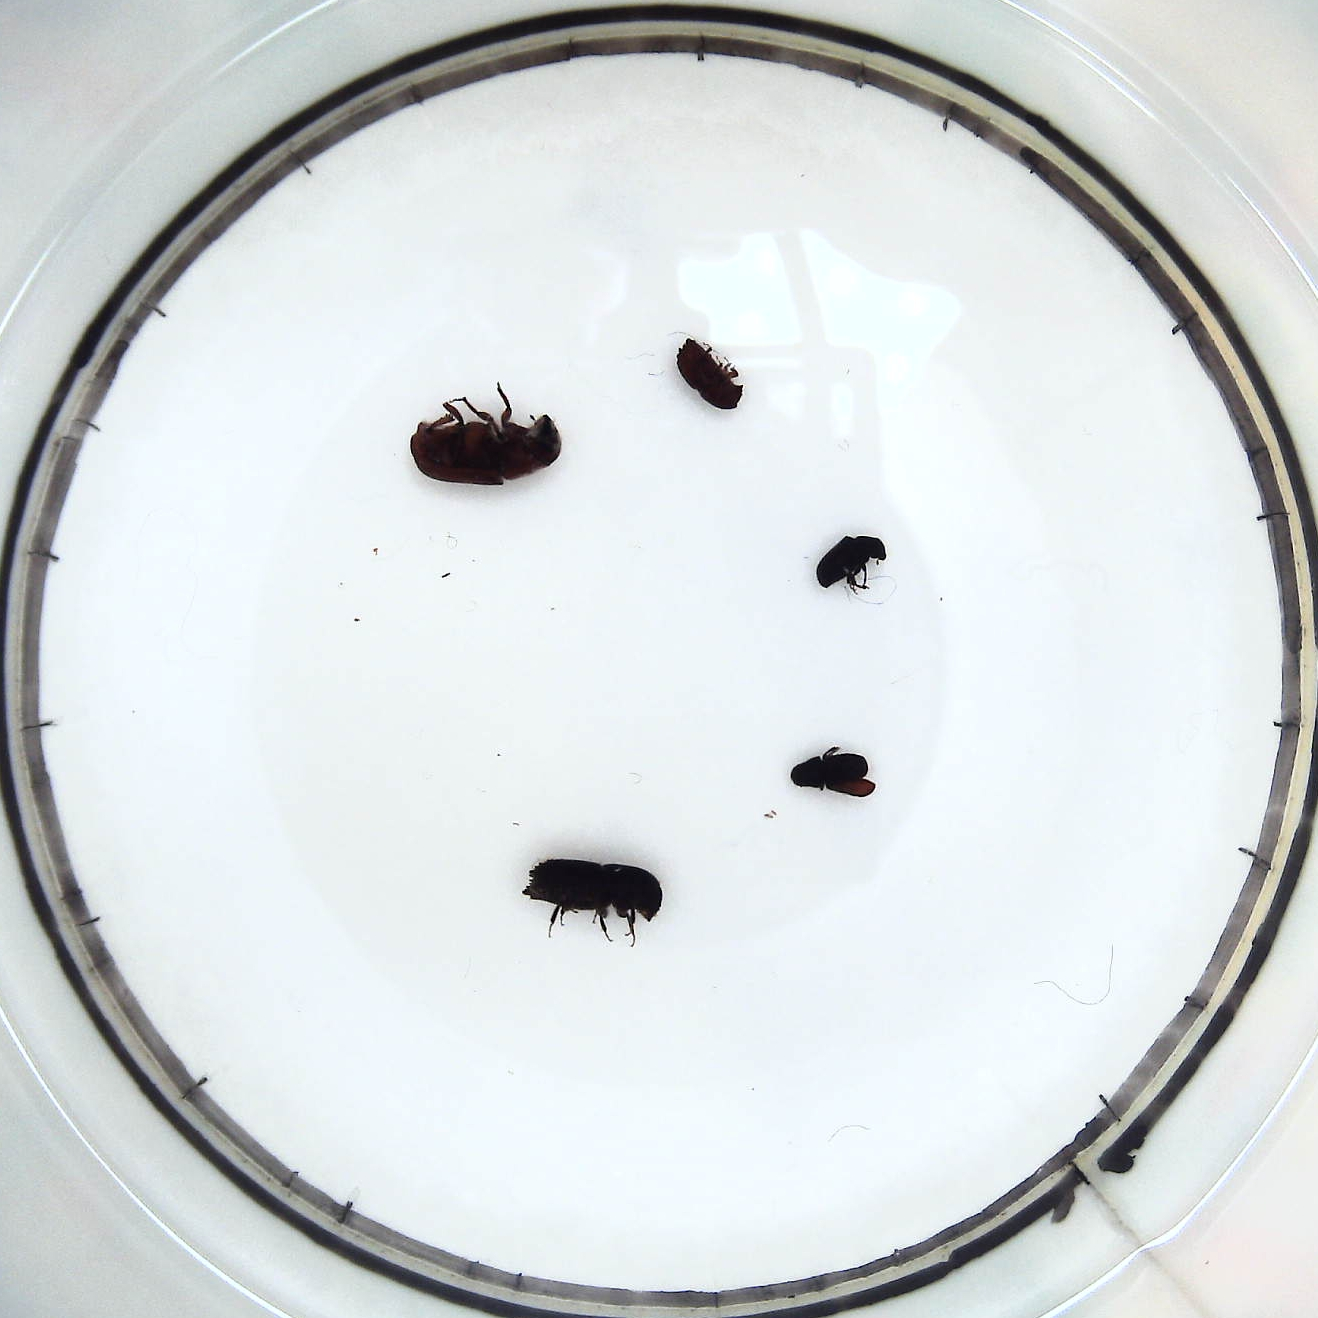Boerner: (518, 855, 665, 939)
Leconte: (412, 373, 567, 497)
armandi: (785, 746, 882, 804)
coleoptera: (813, 529, 894, 610)
linnaeus: (672, 334, 750, 419)
